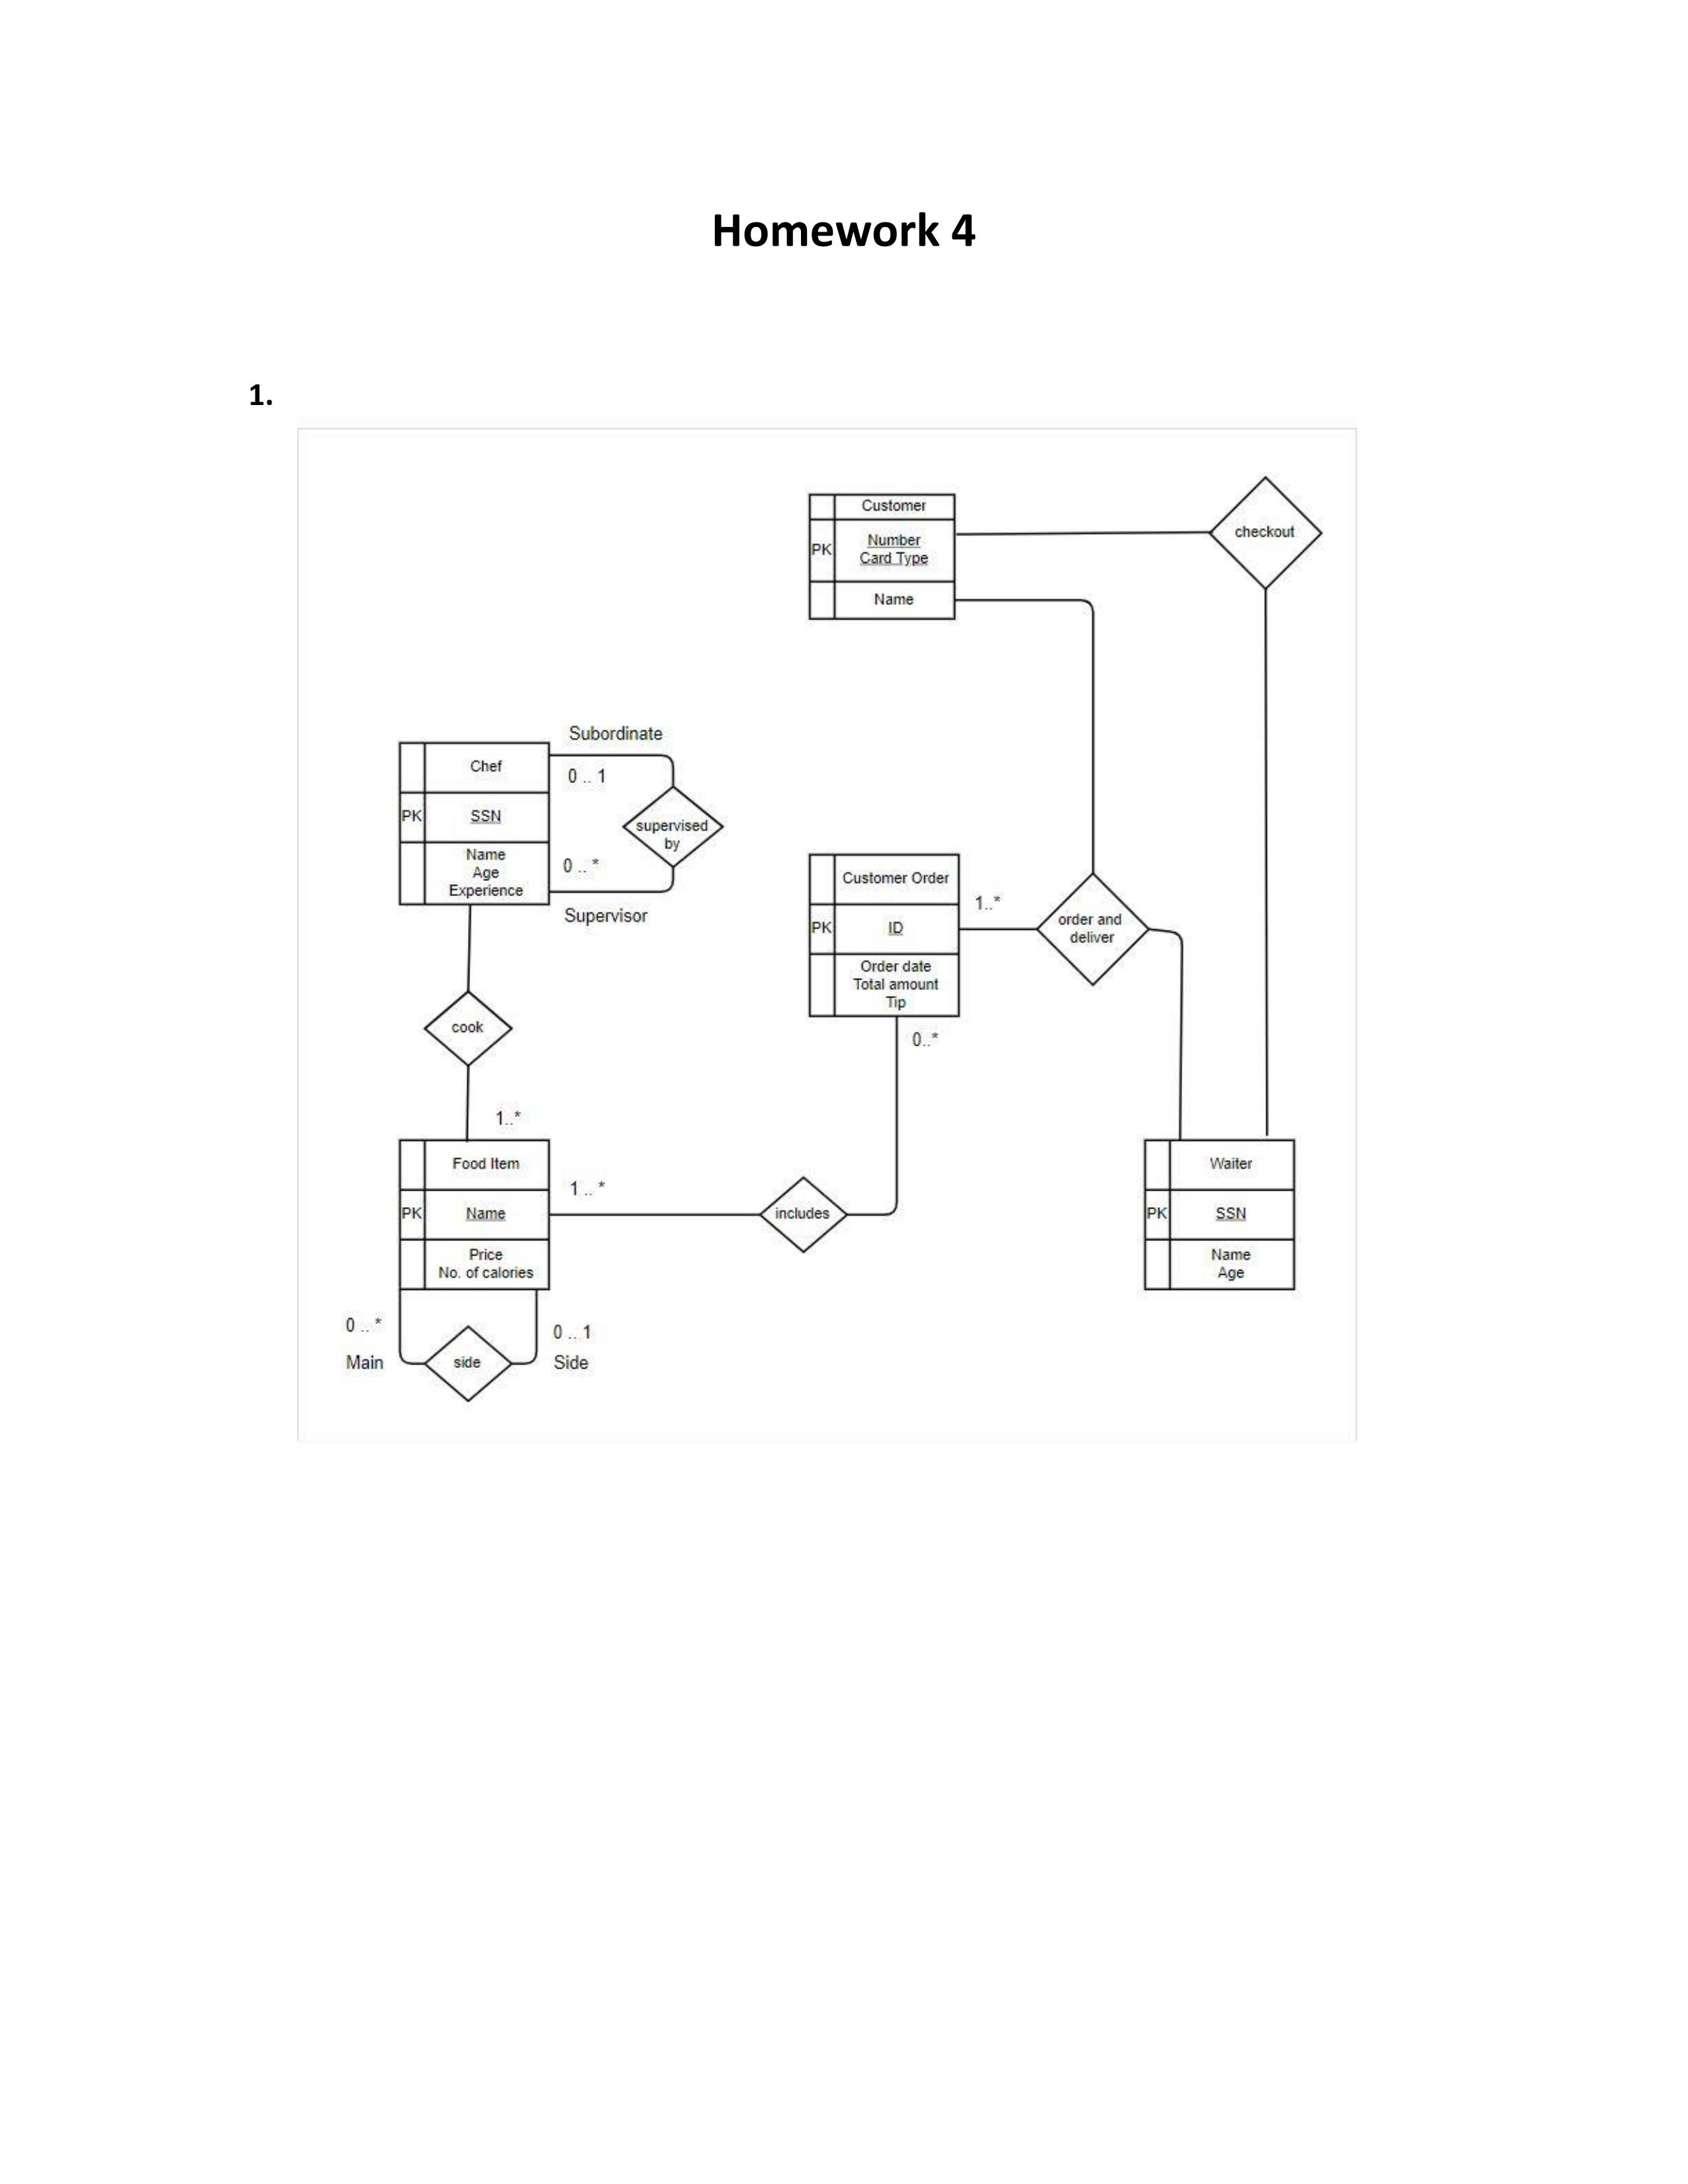Entity: (803, 851, 963, 1021), (395, 739, 553, 909), (1140, 1135, 1300, 1294), (395, 1138, 551, 1292), (803, 491, 959, 624)
Relationship: (1035, 872, 1151, 986), (1211, 477, 1319, 590), (622, 787, 723, 869), (424, 984, 514, 1067), (759, 1175, 848, 1253), (426, 1324, 514, 1402)
